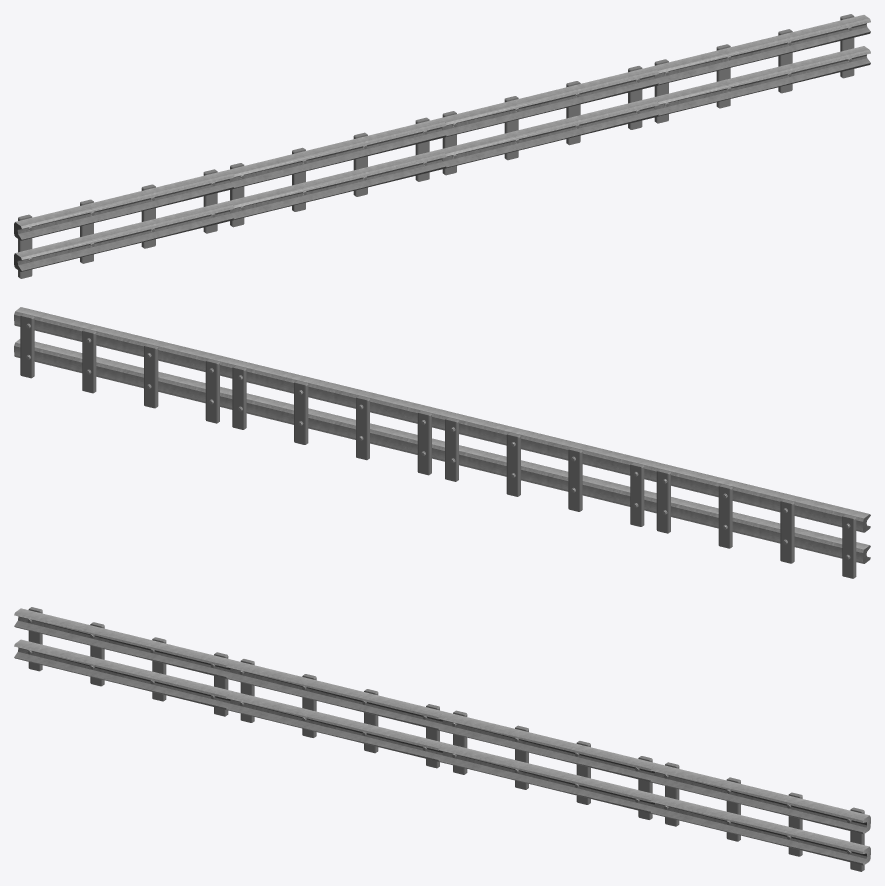
The model's file is GuardrailLargo.obj.
The picture shows the model from 3 angles, top to bottom: view 1: azimuth 30°, elevation 25°; view 2: azimuth 150°, elevation 25°; view 3: azimuth 330°, elevation 25°; orthographic projection.
Parts seen in each view (by area): view 1: Mesh, pasted__pasted__Mesh pasted__group1 group2, group2 pasted__pasted__Mesh pasted__group, pasted__Mesh group; view 2: Mesh, pasted__pasted__Mesh pasted__group1 group2, group2 pasted__pasted__Mesh pasted__group, pasted__Mesh group; view 3: group2 pasted__pasted__Mesh pasted__group, Mesh, pasted__pasted__Mesh pasted__group1 group2, pasted__Mesh group.
Part boxes in pixels (box(x1,y1,x2,y2)): Mesh: box(14, 169, 234, 278); pasted__pasted__Mesh pasted__group1 group2: box(440, 66, 658, 175); group2 pasted__pasted__Mesh pasted__group: box(652, 14, 870, 123); pasted__Mesh group: box(228, 117, 446, 227); Mesh: box(650, 462, 870, 578); pasted__pasted__Mesh pasted__group1 group2: box(226, 359, 445, 475); group2 pasted__pasted__Mesh pasted__group: box(14, 307, 233, 423); pasted__Mesh group: box(438, 410, 657, 526); group2 pasted__pasted__Mesh pasted__group: box(650, 762, 870, 871); Mesh: box(14, 607, 232, 716); pasted__pasted__Mesh pasted__group1 group2: box(438, 710, 657, 819); pasted__Mesh group: box(226, 659, 444, 768).
Bounding box in the file's own units: 25.12 × 1.7 × 0.6043.
Materials: 8 (8 with a texture image).
